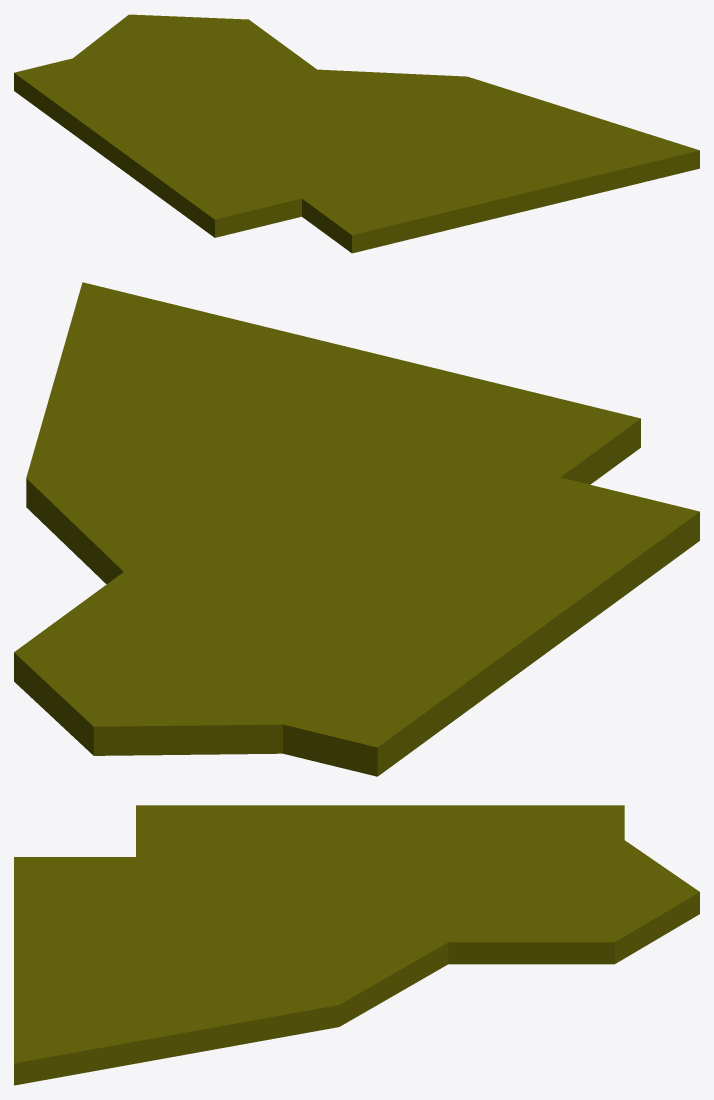
Rendered from x_0_boloto_33_1_rmstrd.fbx.
3 renders of one model, top to bottom at view 1: azimuth 30°, elevation 25°; view 2: azimuth 150°, elevation 25°; view 3: azimuth 270°, elevation 25°, orthographic. The views are drawn at different scales.
Visible parts, largest first — view 1: x_0_boloto_33_1_rmstrd1; view 2: x_0_boloto_33_1_rmstrd1; view 3: x_0_boloto_33_1_rmstrd1.
Part boxes in pixels (x1,y1,x2,y2): x_0_boloto_33_1_rmstrd1: (14, 14, 699, 253); x_0_boloto_33_1_rmstrd1: (14, 282, 699, 776); x_0_boloto_33_1_rmstrd1: (14, 805, 699, 1085).
Bounding box in the file's own units: 5 × 0.2 × 5.62.
